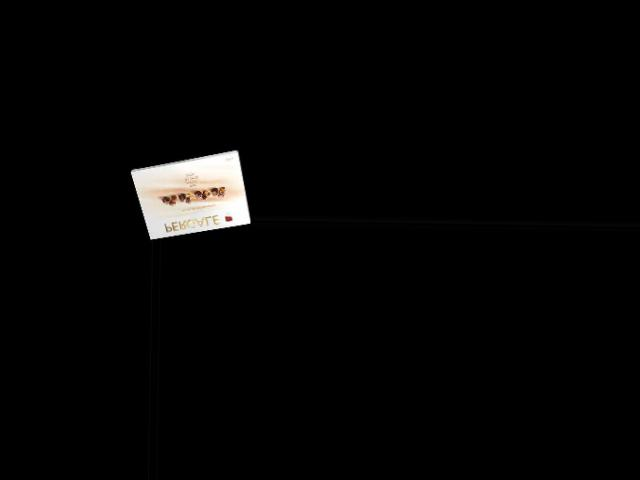chocolate: (135, 144, 247, 239)
